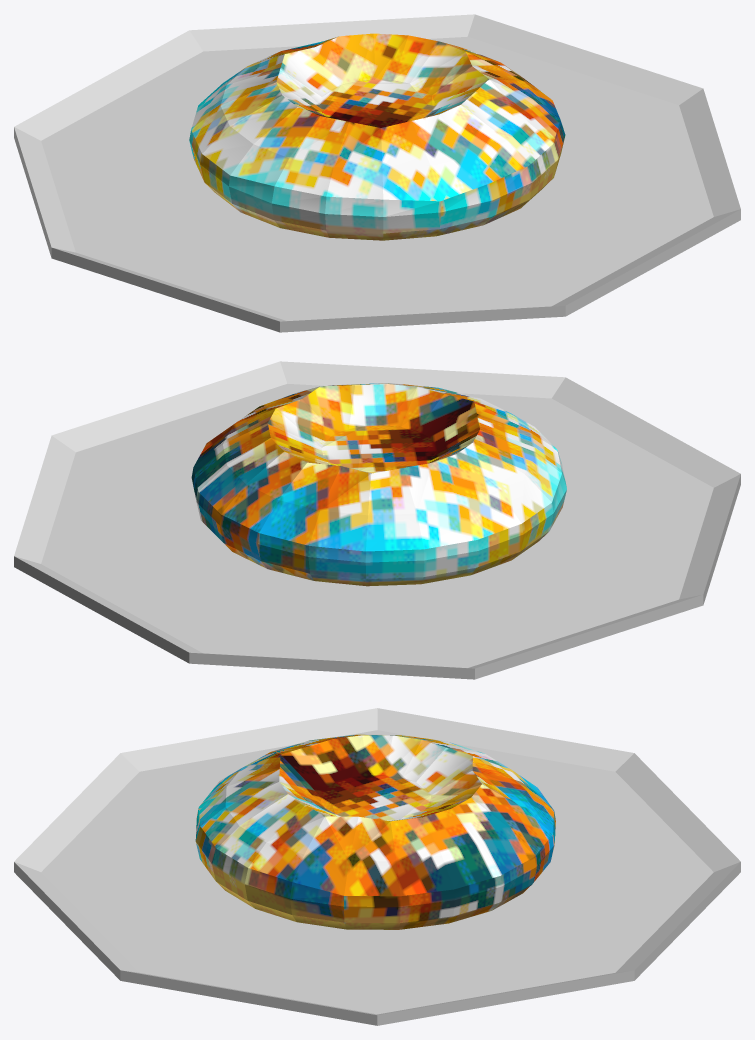
Rendered from Donut girl room.fbx.
3 renders of one model, top to bottom at view 1: azimuth 30°, elevation 25°; view 2: azimuth 150°, elevation 25°; view 3: azimuth 270°, elevation 25°, orthographic. The views are drawn at different scales.
Parts seen in each view (by area): view 1: Cylinder.012, Donut_Variant_1; view 2: Cylinder.012, Donut_Variant_1; view 3: Cylinder.012, Donut_Variant_1.
Boxes of the visible parts, left/top/right/bottom form: Cylinder.012: left=14, top=14, right=740, bottom=332; Donut_Variant_1: left=189, top=33, right=565, bottom=240; Cylinder.012: left=14, top=361, right=740, bottom=679; Donut_Variant_1: left=191, top=383, right=566, bottom=586; Cylinder.012: left=14, top=708, right=740, bottom=1025; Donut_Variant_1: left=195, top=734, right=555, bottom=929.
Bounding box in the file's own units: 26.9 × 6.51 × 26.9.
